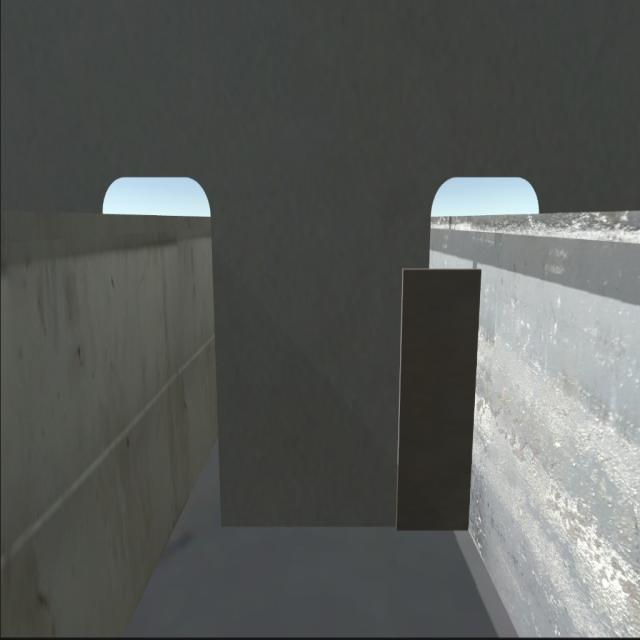fillet_yong_jeop_jang: (212, 511, 469, 544)
longi_yong_jeop_jang: (469, 264, 479, 537)
plate_CP03: (402, 260, 474, 534)
